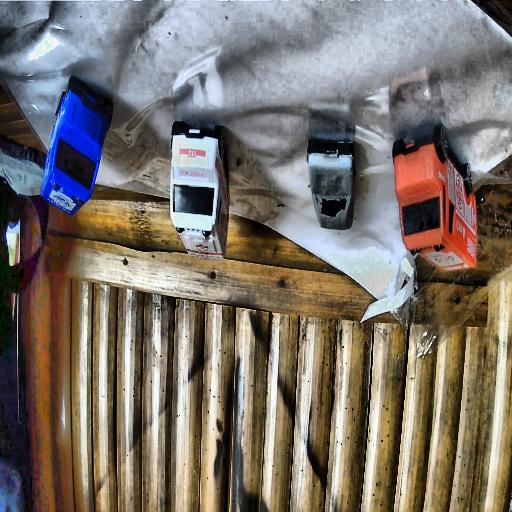ambulance: (170, 126, 230, 260)
fire_truck: (394, 136, 476, 271)
normal_car: (307, 107, 357, 231)
police car: (40, 74, 114, 217)
